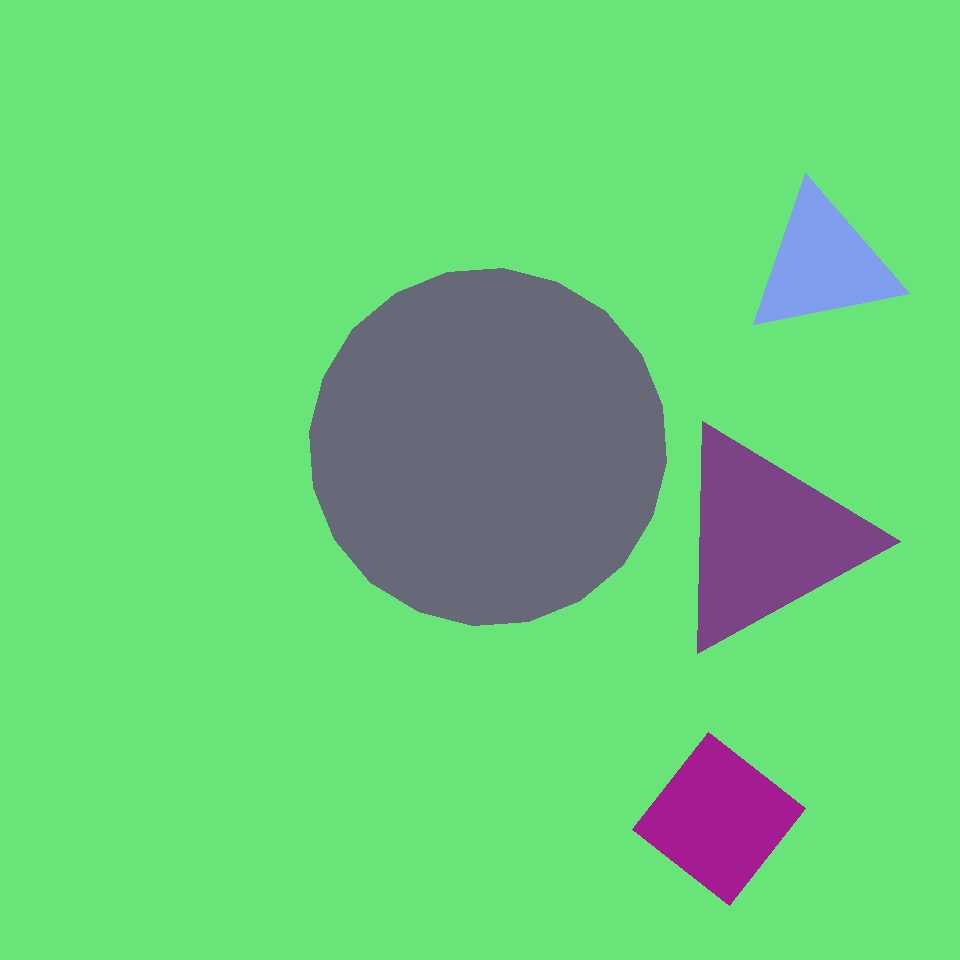circle: (666, 423, 868, 655), (745, 189, 901, 340), (343, 271, 471, 405), (500, 630, 617, 749)
square: (112, 57, 433, 377), (53, 506, 289, 742), (632, 732, 805, 906)
triangle: (310, 268, 666, 626), (396, 266, 732, 602), (706, 45, 861, 201)
